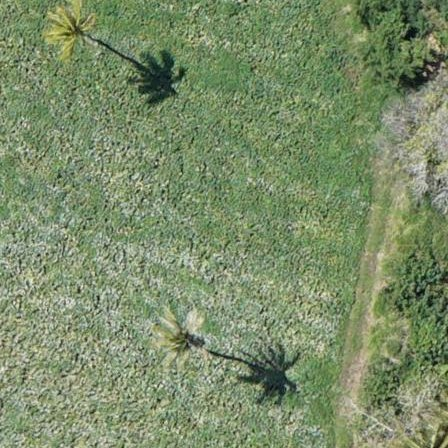palm_tree: (145, 305, 205, 370), (47, 1, 96, 54)
